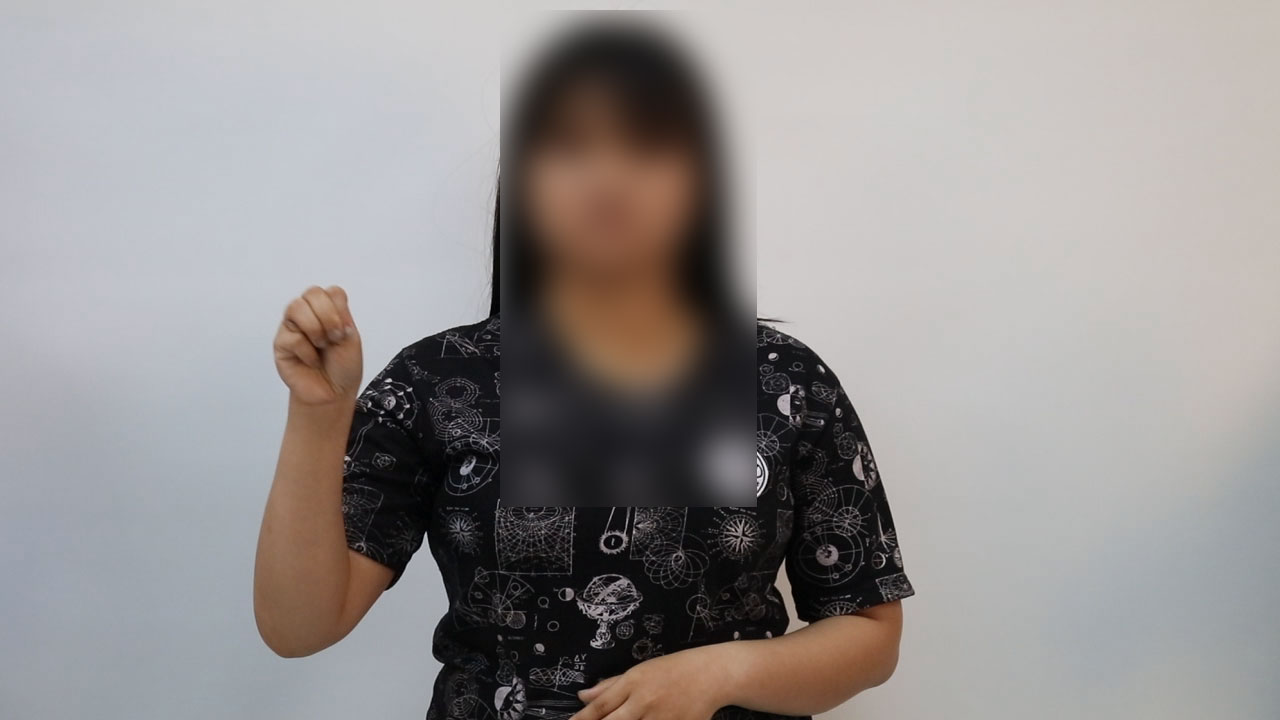mor: (260, 270, 375, 417)
